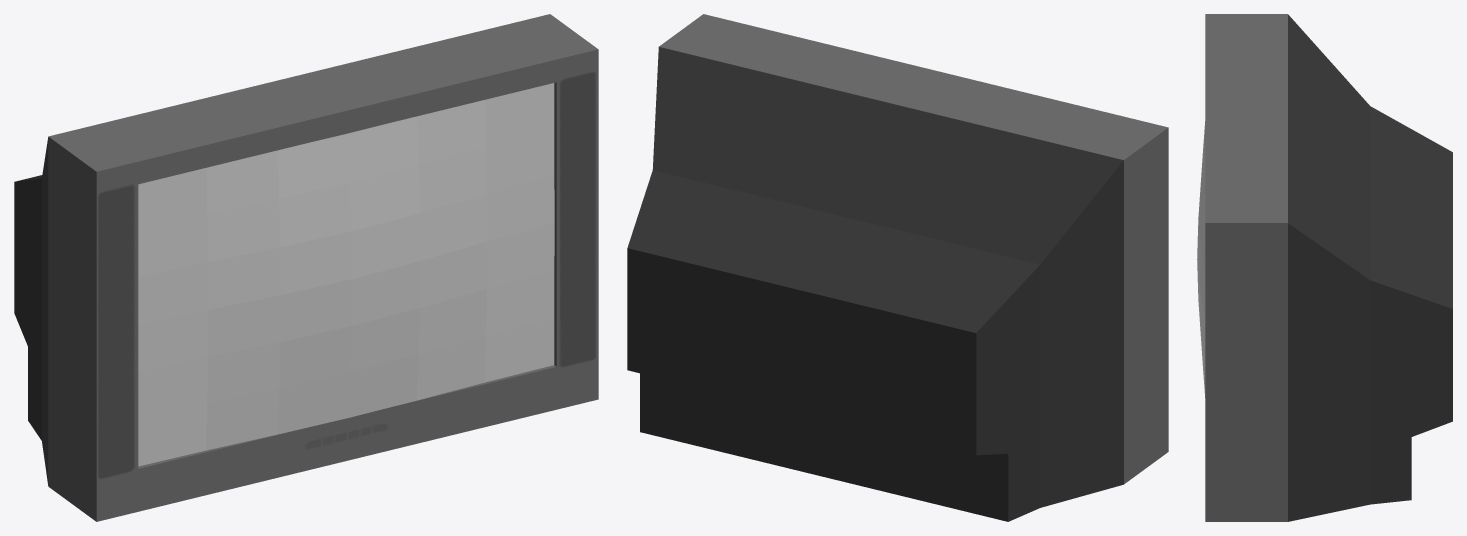
3 renders of one model, left to right at view 1: azimuth 30°, elevation 25°; view 2: azimuth 150°, elevation 25°; view 3: azimuth 270°, elevation 25°, orthographic. The views are drawn at different scales.
Parts seen in each view (by area): view 1: TV; view 2: TV; view 3: TV.
Boxes of the visible parts, x1,y1,x2,y2 form: TV: (14, 14, 598, 521); TV: (627, 14, 1168, 521); TV: (1197, 14, 1452, 521).
Bounding box in the file's own units: 120 × 80 × 62.02.
2 materials, 1 textured.
